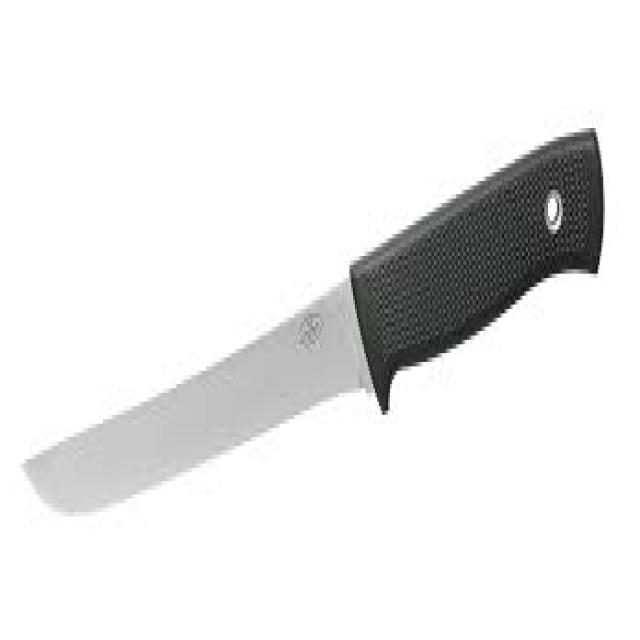knives: (18, 115, 609, 530)
